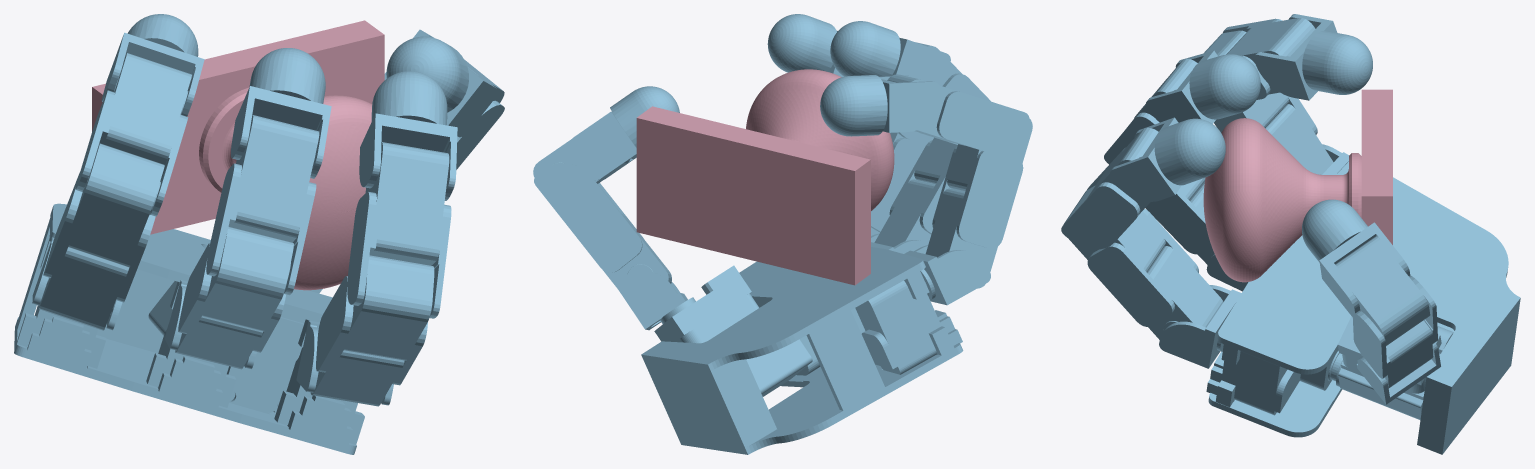
Rendered from Allegro_contactdb+door_knob_mesh.glb.
3 renders of one model, left to right at view 1: azimuth 30°, elevation 25°; view 2: azimuth 150°, elevation 25°; view 3: azimuth 270°, elevation 25°, orthographic. The views are drawn at different scales.
Parts seen in each view (by area): view 1: world; view 2: world; view 3: world.
Boxes of the visible parts, x1,y1,x2,y2 form: world: [14, 14, 504, 454]; world: [533, 14, 1032, 454]; world: [1061, 14, 1520, 454].
Bounding box in the file's own units: 0.1916 × 0.1581 × 0.1819.
